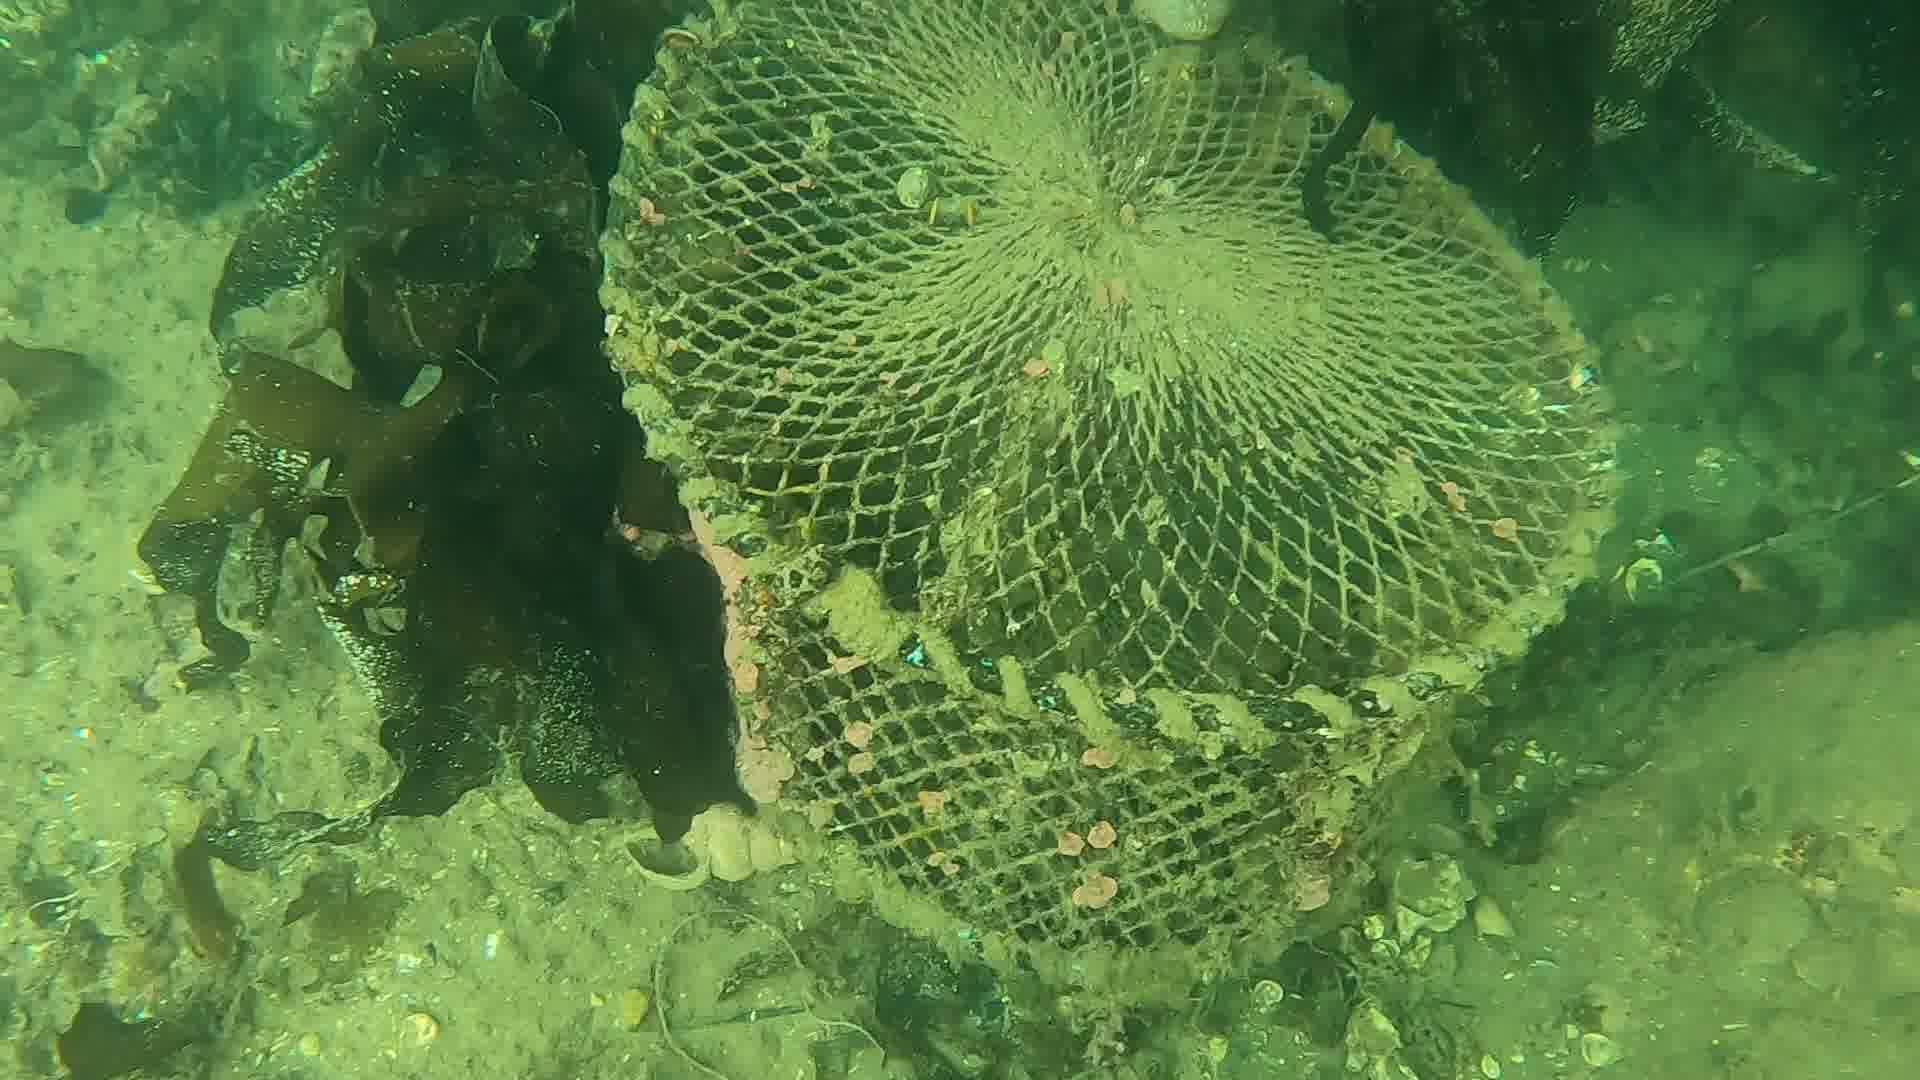circular fish trap: (587, 0, 1636, 1000)
